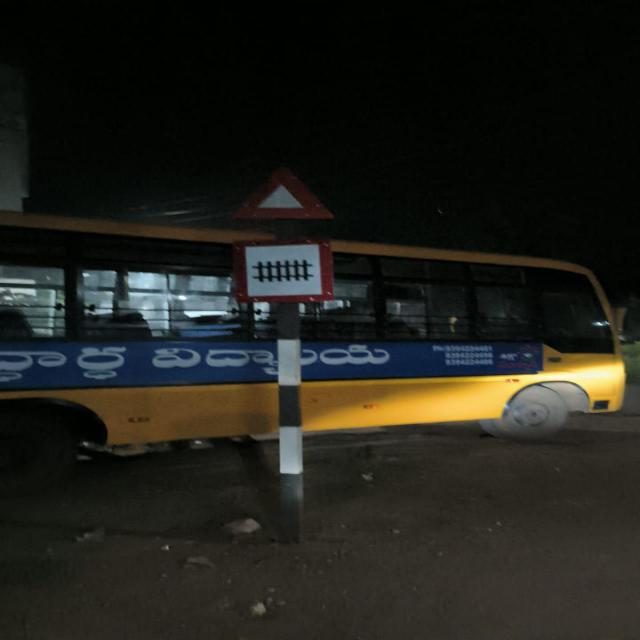compulsory_keep_left: (238, 243, 328, 299)
